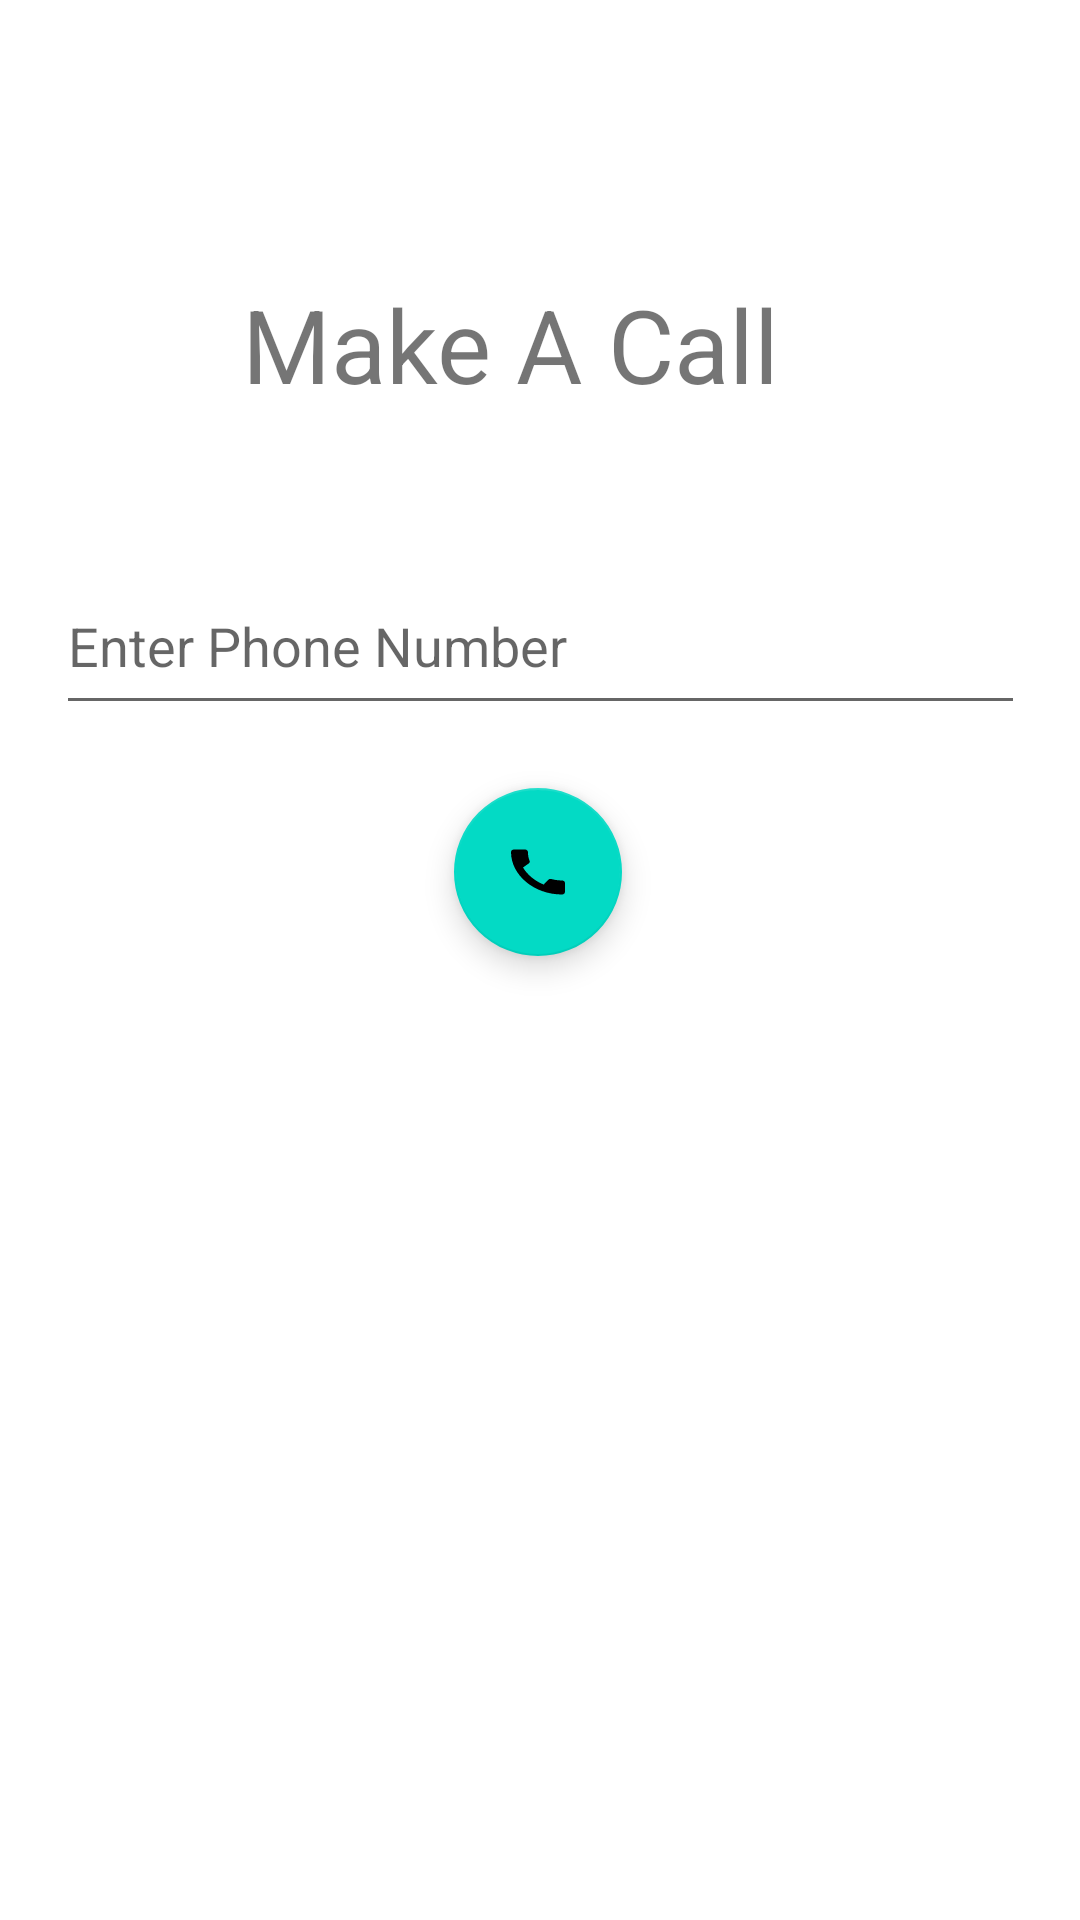

Where icons sit on this 1080x1920 app screen, as {"x1": x1, "y1": y1, "x2": x2, "y2": y2}:
call: {"x1": 454, "y1": 788, "x2": 622, "y2": 956}
